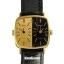watch: (10, 13, 53, 52)
